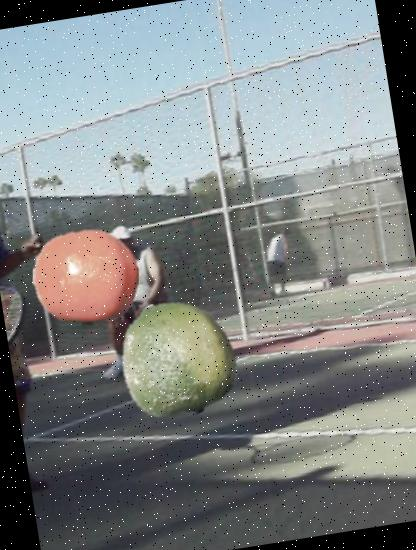Clementine: (26, 216, 148, 338)
Limes: (108, 290, 244, 427)
